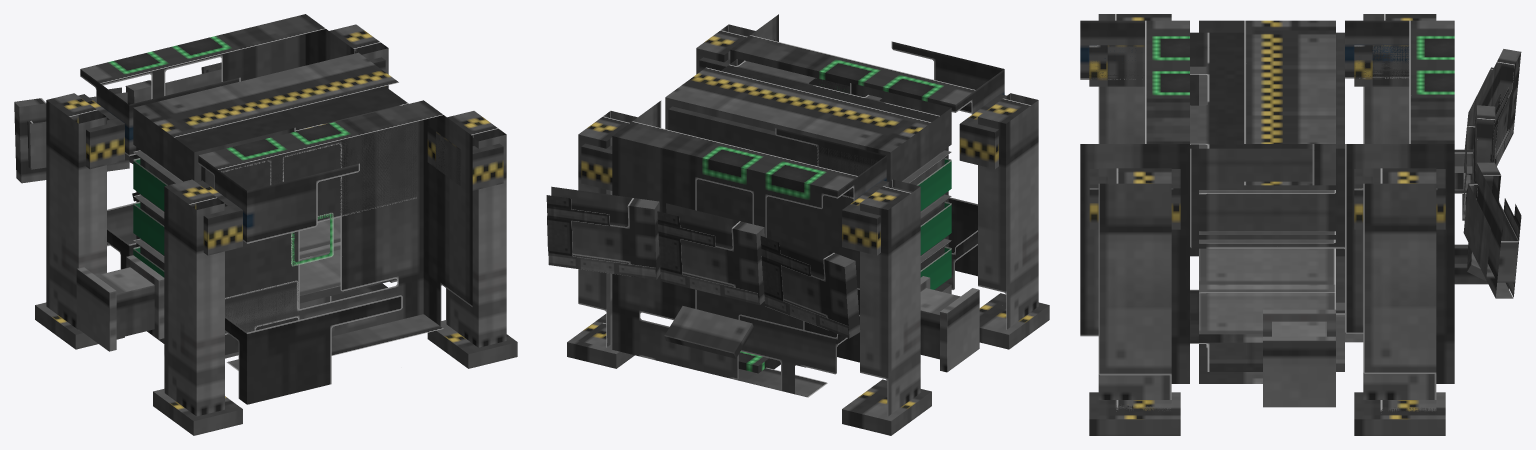
The model's file is digital_miner.obj.
3 views of the same model, side by side, from view 1: azimuth 30°, elevation 25°; view 2: azimuth 150°, elevation 25°; view 3: azimuth 270°, elevation 25° (orthographic). The views are drawn at different scales.
Parts seen in each view (by area): view 1: frame3, core, supportBeam4, frame1, frame2a, supportBeam3, supportBeam2, powerCable2, frame2d, frame2c, monitor3, powerConnector2a_glow (+14 smaller); view 2: frame1, core, frame2a, supportBeam3, supportBeam4, frame3, monitor1, monitor2, monitor3, supportBeam1, monitor1_glow, keyboard (+16 smaller); view 3: core, supportBeam1, supportBeam2, frame1, frame3, frame2a, frame2c, frame2d, powerConnector3a_glow, monitor1, supportBeam3, supportBeam4 (+21 smaller).
Boxes of the visible parts, <box> form: frame3: <box>198,100,472,404</box>; core: <box>136,86,416,354</box>; supportBeam4: <box>164,179,224,416</box>; frame1: <box>80,14,354,269</box>; frame2a: <box>133,52,398,181</box>; supportBeam3: <box>46,93,106,329</box>; supportBeam2: <box>446,111,506,347</box>; powerCable2: <box>96,267,154,338</box>; frame2d: <box>133,238,340,295</box>; frame2c: <box>133,194,340,255</box>; monitor3: <box>14,92,129,183</box>; powerConnector2a_glow: <box>76,269,109,351</box>; frame1: <box>612,100,886,397</box>; core: <box>668,59,948,329</box>; frame2a: <box>665,67,951,181</box>; supportBeam3: <box>860,179,920,416</box>; supportBeam4: <box>978,93,1038,329</box>; frame3: <box>730,14,1004,289</box>; monitor1: <box>547,186,660,279</box>; monitor2: <box>666,203,764,304</box>; monitor3: <box>761,229,860,338</box>; supportBeam1: <box>578,111,637,347</box>; monitor1_glow: <box>546,195,655,279</box>; keyboard: <box>664,306,754,358</box>; core: <box>1190,32,1344,371</box>; supportBeam1: <box>1363,168,1436,412</box>; supportBeam2: <box>1098,168,1171,410</box>; frame1: <box>1345,20,1454,383</box>; frame3: <box>1080,20,1189,383</box>; frame2a: <box>1199,20,1335,185</box>; frame2c: <box>1199,239,1335,284</box>; frame2d: <box>1199,249,1335,334</box>; powerConnector3a_glow: <box>1263,341,1335,407</box>; monitor1: <box>1469,162,1518,298</box>; supportBeam3: <box>1363,14,1436,143</box>; supportBeam4: <box>1098,14,1171,143</box>.
Bounding box in the file's own units: 3.01 × 2 × 3.03.
